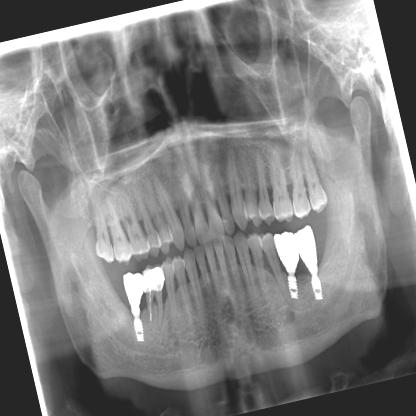Bicon: (306, 268, 328, 308), (284, 268, 305, 309), (128, 310, 150, 348)
